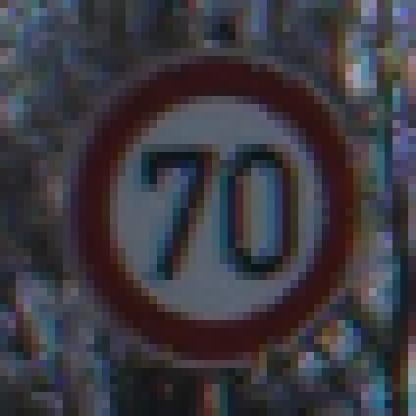Speed Limit 70: (74, 57, 361, 365)
